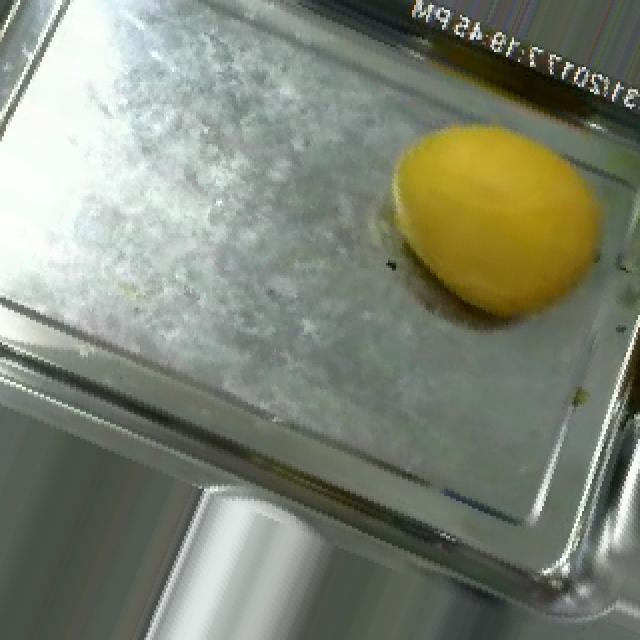fruit: (328, 75, 640, 367)
